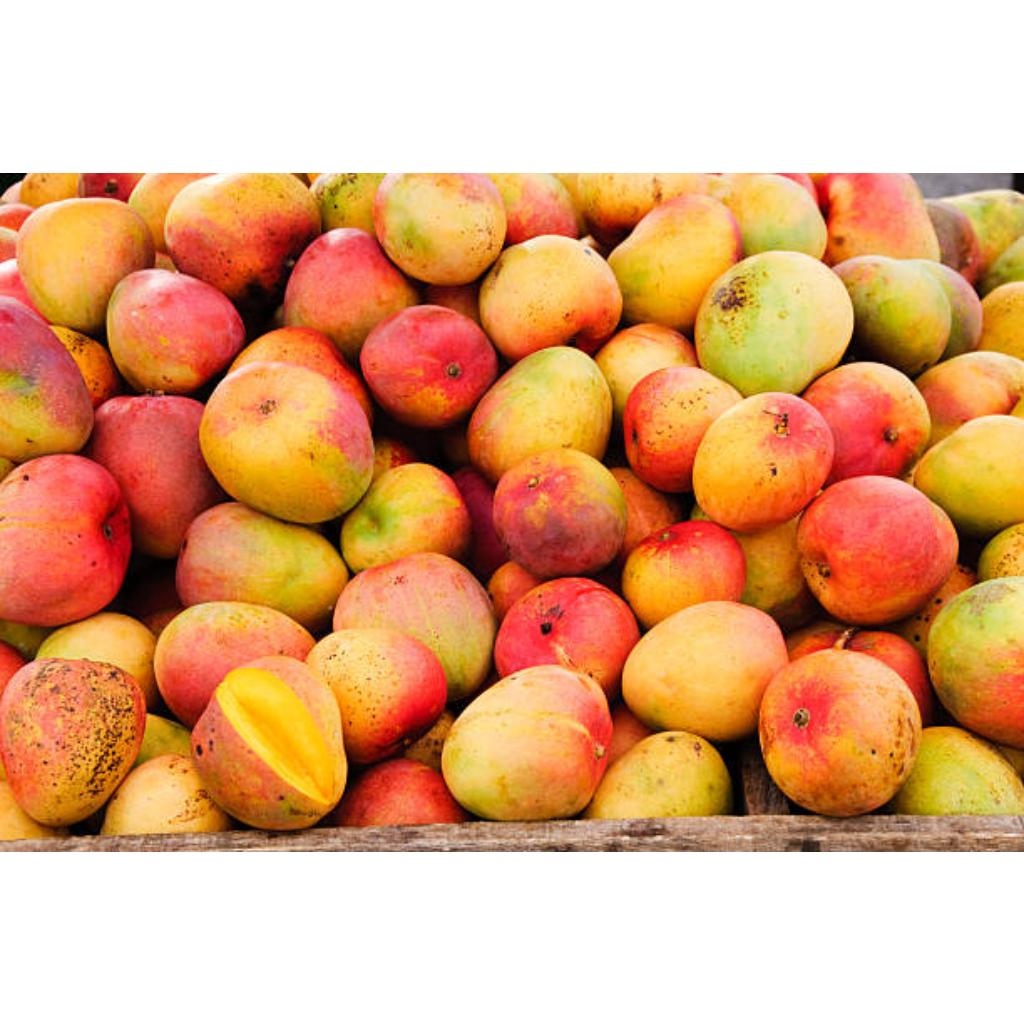mango: (200, 360, 374, 523), (760, 646, 922, 814), (192, 654, 344, 828), (442, 664, 612, 819), (0, 658, 146, 825), (796, 474, 958, 624), (334, 552, 498, 699), (84, 394, 228, 557), (622, 600, 788, 740), (0, 454, 132, 625), (176, 502, 348, 631), (694, 254, 850, 394), (166, 172, 322, 308), (154, 600, 314, 725), (692, 392, 834, 531), (468, 346, 612, 481), (306, 626, 446, 762), (16, 196, 154, 333), (608, 194, 742, 333), (478, 234, 622, 361), (494, 576, 640, 699), (284, 228, 418, 361), (106, 268, 246, 393), (494, 448, 626, 577), (360, 304, 498, 427), (928, 576, 1024, 747), (0, 296, 94, 461), (804, 362, 930, 483), (624, 366, 742, 491), (374, 172, 506, 283), (340, 462, 472, 571), (834, 254, 950, 373), (228, 328, 372, 423), (914, 414, 1024, 537), (622, 520, 746, 627), (584, 730, 732, 818), (888, 726, 1024, 814), (39, 610, 158, 707), (820, 172, 940, 265), (102, 752, 232, 833), (596, 322, 698, 425), (914, 350, 1024, 443), (332, 758, 468, 825)
